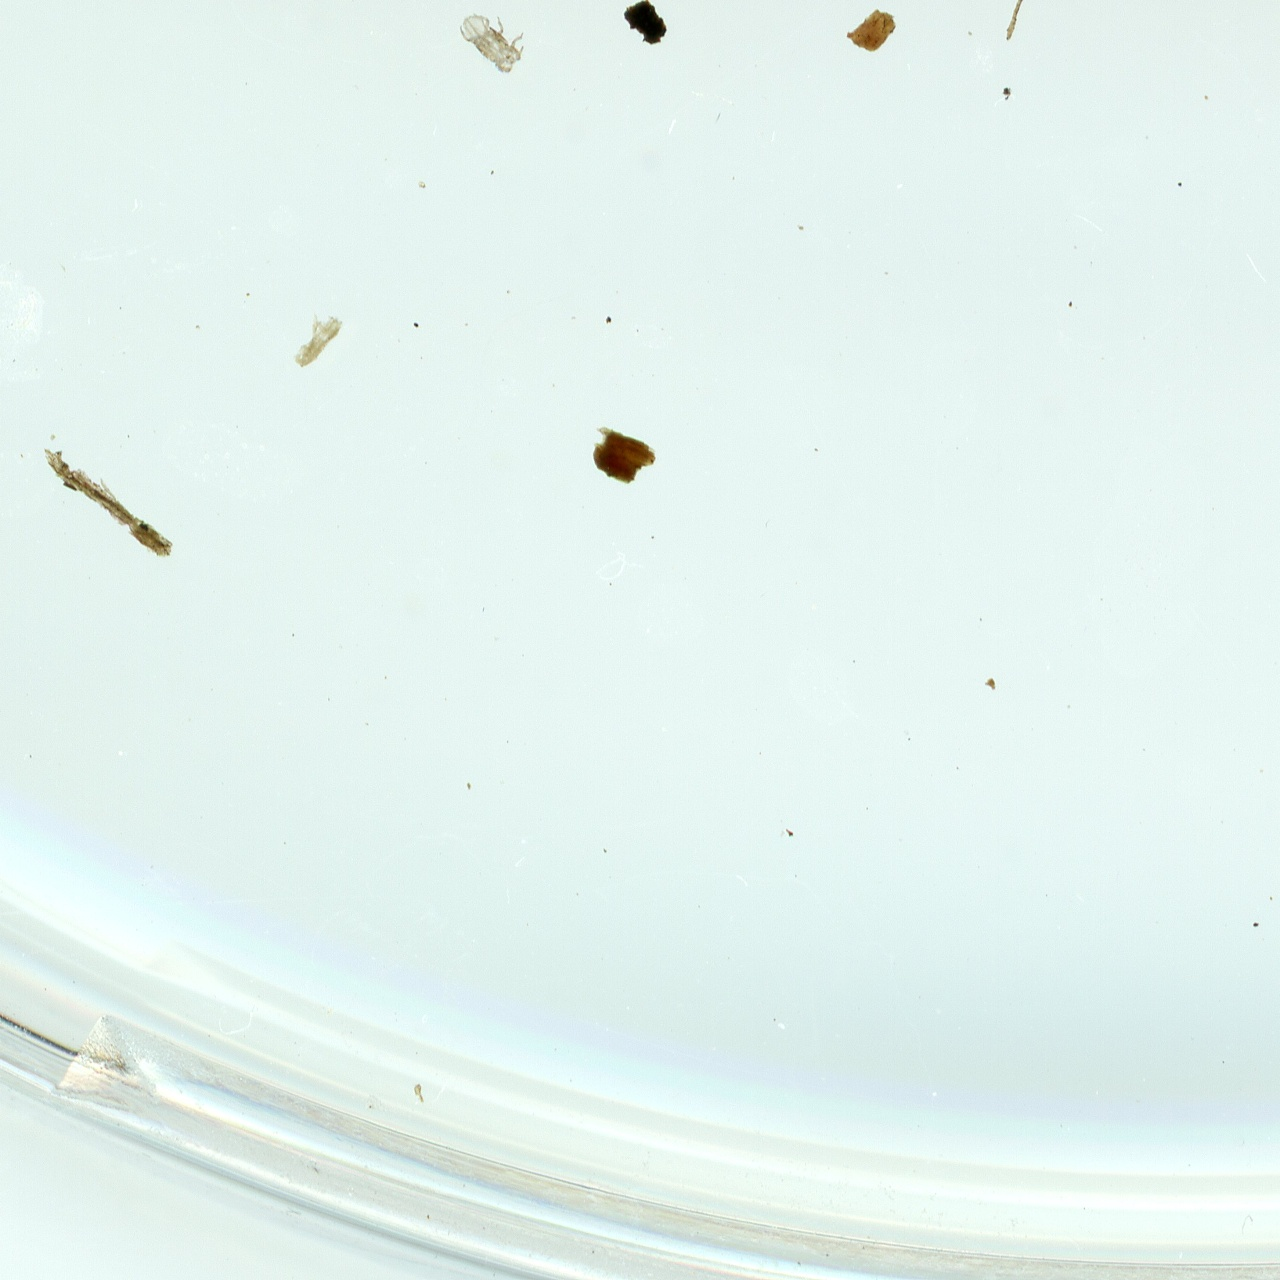arthropod: (455, 7, 533, 79)
